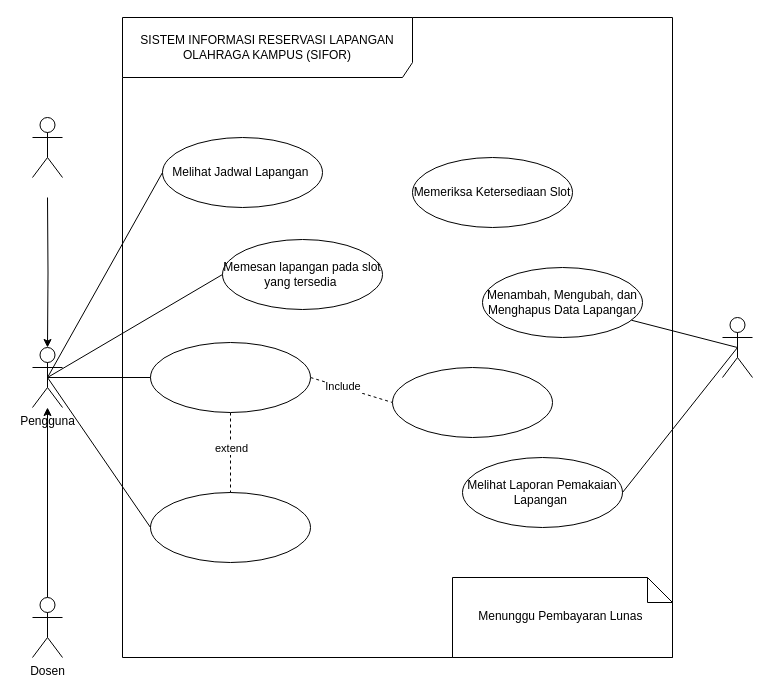
Some shapes in this 781 by 696 pixel diagram are drawn without their labels. Here are the shapes that lost their labels. From the top down, the centre of each, then its label:
pixel 47 147: Mahasiswa
pixel 737 347: Pengelola Lapangan
pixel 230 377: Membayar sewa setelah pemesanan tercatat
pixel 472 402: Status Pemesanan
pixel 230 527: Melihat Riwayat Pemesanan
